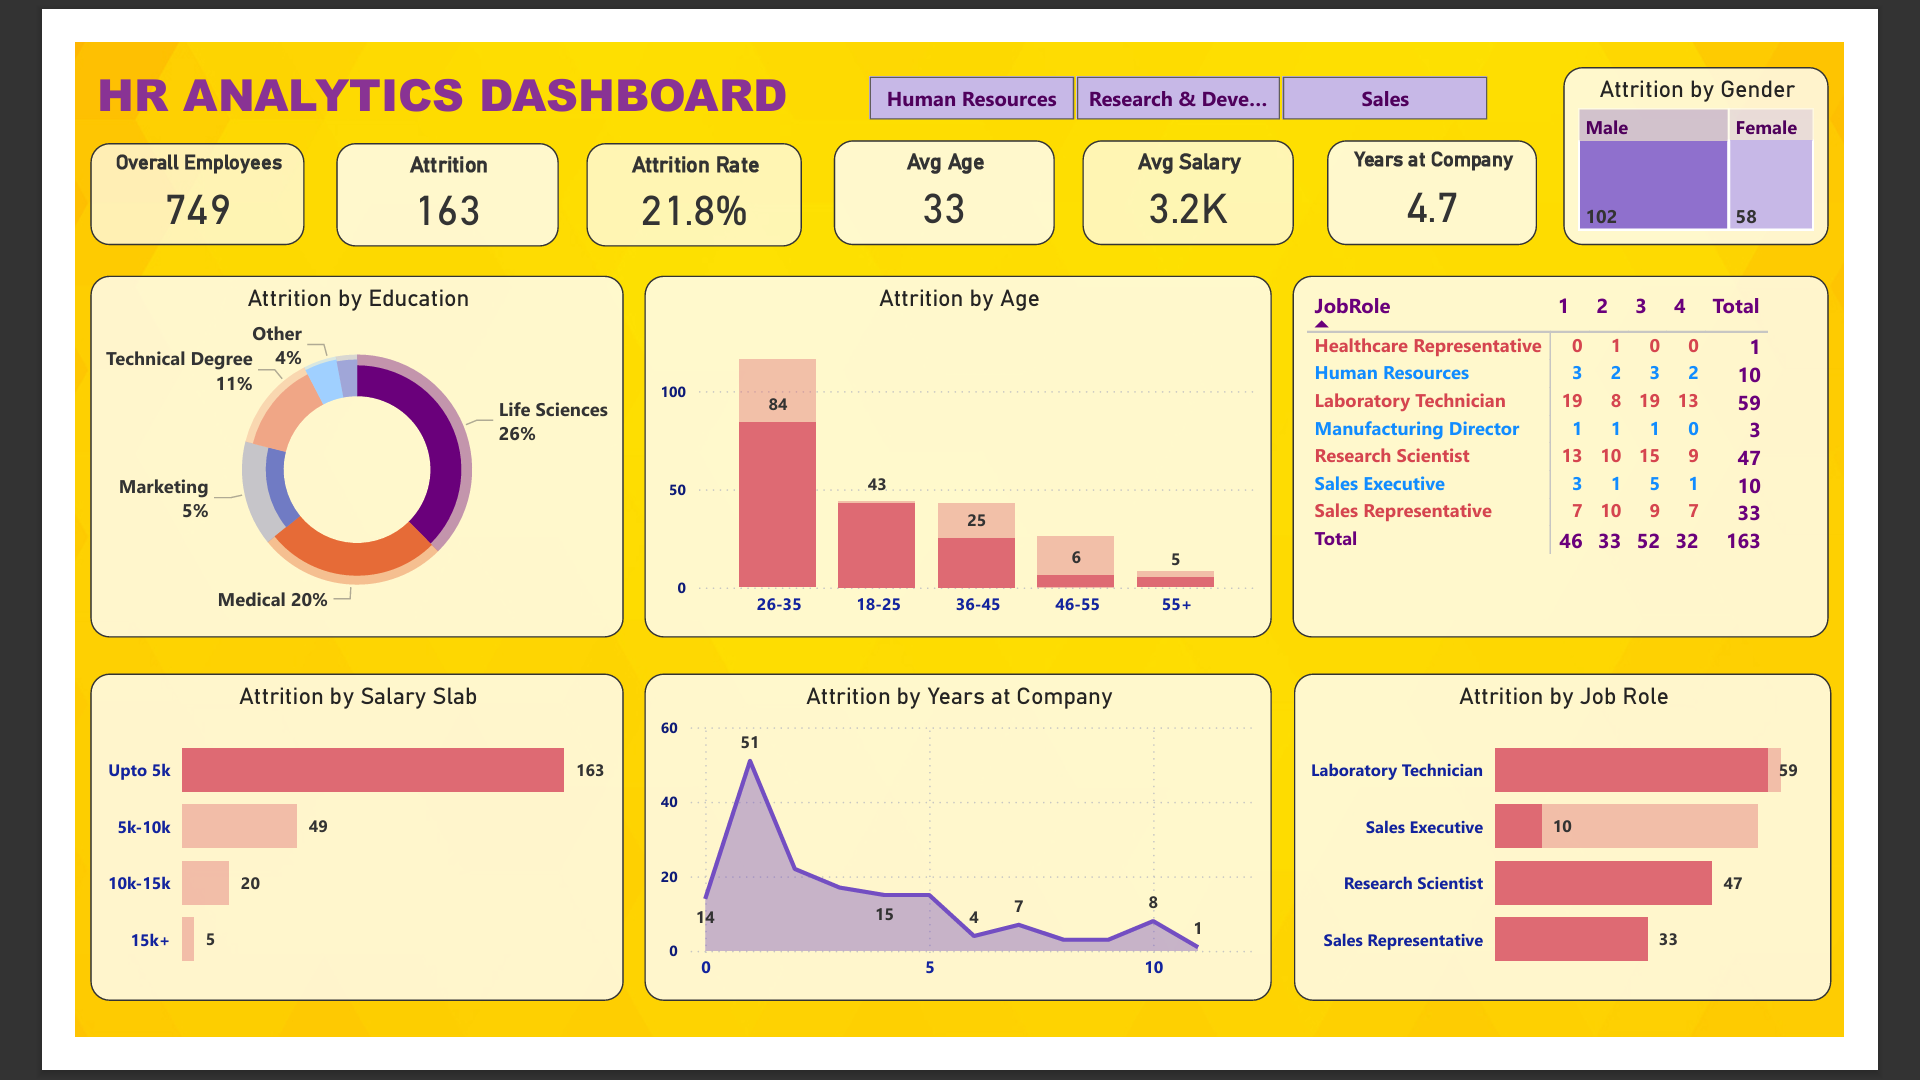

The dashboard page shown, as its layout file describes it:
{"tool":"powerbi","page":{"name":"Page 1","canvas":[1280,720],"ordinal":0},"visuals":[{"type":"card","title":"Overall Employees","fields":{"Values":["CountNonNull(HR_Analytics.EmpID)"]},"box":[11,72.7,155.1,74.1],"z":0},{"type":"card","title":"Attrition","fields":{"Values":["Sum(HR_Analytics.AttritionCount)"]},"box":[189.4,72.7,160.5,75.5],"z":1000},{"type":"card","title":"Attrition Rate","fields":{"Values":["HR_Analytics.AttritionRate"]},"box":[370.5,72.7,155.1,75.5],"z":2000},{"type":"card","title":"Avg Age","fields":{"Values":["Avg(HR_Analytics.Age)"]},"box":[548.9,71.4,160.5,75.5],"z":3000},{"type":"card","title":"Avg Salary","fields":{"Values":["Avg(HR_Analytics.MonthlyIncome)"]},"box":[728.6,71.4,153.7,75.5],"z":4000},{"type":"card","title":"Years at Company","fields":{"Values":["Avg(HR_Analytics.YearsAtCompany)"]},"box":[905.7,71.4,152.3,75.5],"z":5000},{"type":"donutChart","title":"Attrition by Education","fields":{"Category":["HR_Analytics.EducationField"],"Y":["Sum(HR_Analytics.AttritionCount)"]},"box":[11,168.8,385.6,262.1],"z":6000},{"type":"columnChart","title":"Attrition by Age","fields":{"Category":["HR_Analytics.AgeGroup"],"Y":["Sum(HR_Analytics.AttritionCount)"]},"box":[411.7,168.8,454.2,262.1],"z":7000},{"type":"pivotTable","fields":{"Rows":["HR_Analytics.JobRole"],"Columns":["HR_Analytics.JobSatisfaction"],"Values":["Sum(HR_Analytics.AttritionCount)"]},"box":[881,168.8,388.3,262.1],"z":8000},{"type":"barChart","title":"Attrition by Job Role","fields":{"Category":["HR_Analytics.JobRole"],"Y":["Sum(HR_Analytics.AttritionCount)"]},"box":[882.3,456.9,388.3,237.4],"z":9000},{"type":"barChart","title":"Attrition by Salary Slab","fields":{"Category":["HR_Analytics.SalarySlab"],"Y":["Sum(HR_Analytics.AttritionCount)"]},"box":[11,456.9,385.6,237.4],"z":10000},{"type":"areaChart","title":"Attrition by Years at Company","fields":{"Category":["HR_Analytics.YearsAtCompany"],"Y":["Sum(HR_Analytics.AttritionCount)"]},"box":[411.7,456.9,454.2,237.4],"z":11000},{"type":"treemap","title":"Attrition by Gender","fields":{"Group":["HR_Analytics.Gender"],"Values":["Sum(HR_Analytics.AttritionCount)"]},"box":[1077.2,17.8,192.1,129],"z":12000},{"type":"slicer","fields":{"Values":["HR_Analytics.Department"]},"box":[548.9,17.8,496.7,45.3],"z":13000},{"type":"textbox","box":[11,9.6,551.6,61.7],"z":14000}]}

Visuals, with their boxes in screenshot pixels (x1, y1, x2, y2), scaled from the page's 1280x720 canvas onto the 1920x1080 screenshot:
"Overall Employees" card: [x1=16, y1=109, x2=249, y2=220]
"Attrition" card: [x1=284, y1=109, x2=525, y2=222]
"Attrition Rate" card: [x1=556, y1=109, x2=788, y2=222]
"Avg Age" card: [x1=823, y1=107, x2=1064, y2=220]
"Avg Salary" card: [x1=1093, y1=107, x2=1323, y2=220]
"Years at Company" card: [x1=1359, y1=107, x2=1587, y2=220]
"Attrition by Education" donutChart: [x1=16, y1=253, x2=595, y2=646]
"Attrition by Age" columnChart: [x1=618, y1=253, x2=1299, y2=646]
pivotTable - HR_Analytics.JobRole x HR_Analytics.JobSatisfaction: [x1=1322, y1=253, x2=1904, y2=646]
"Attrition by Job Role" barChart: [x1=1323, y1=685, x2=1906, y2=1041]
"Attrition by Salary Slab" barChart: [x1=16, y1=685, x2=595, y2=1041]
"Attrition by Years at Company" areaChart: [x1=618, y1=685, x2=1299, y2=1041]
"Attrition by Gender" treemap: [x1=1616, y1=27, x2=1904, y2=220]
slicer - HR_Analytics.Department: [x1=823, y1=27, x2=1568, y2=95]
textbox: [x1=16, y1=14, x2=844, y2=107]
